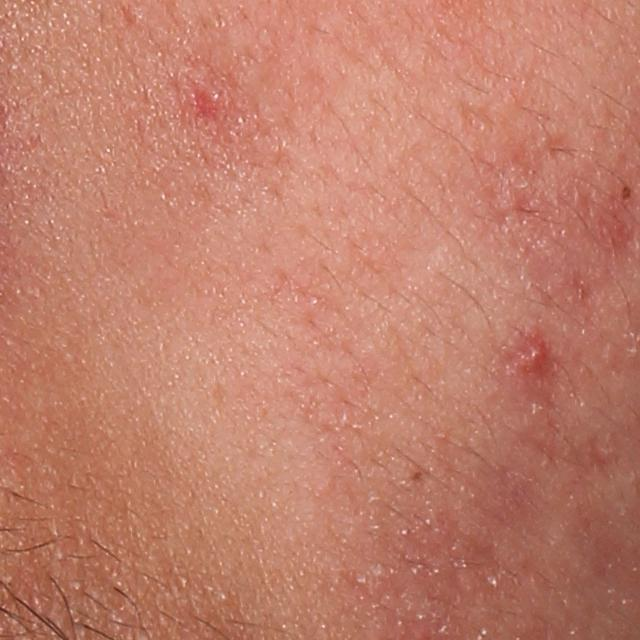atrophic_scar: (449, 98, 501, 135), (537, 129, 584, 166)
papule: (184, 72, 232, 125), (519, 335, 557, 381)
